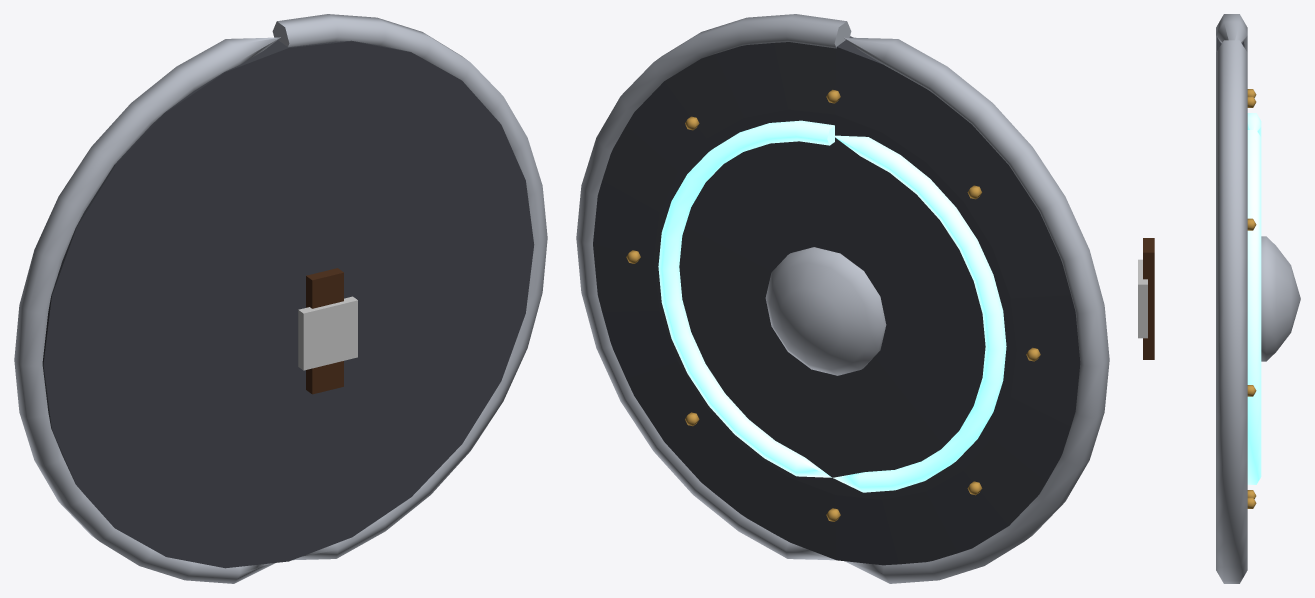
The model's file is shield_warded.glb.
The picture shows the model from 3 angles, left to right: view 1: azimuth 30°, elevation 25°; view 2: azimuth 150°, elevation 25°; view 3: azimuth 270°, elevation 25°; orthographic projection. The views are drawn at different scales.
Visible parts, largest first — view 1: Shield_Warded_Darksteel, Shield_Warded_Steel, Shield_Warded_Trim, Shield_Warded_Leather; view 2: Shield_Warded_Darksteel, Shield_Warded_Steel, Shield_Warded_Accent, Shield_Warded_Brass; view 3: Shield_Warded_Steel, Shield_Warded_Accent, Shield_Warded_Leather, Shield_Warded_Trim, Shield_Warded_Brass.
Boxes of the visible parts, <box> form: Shield_Warded_Darksteel: <box>42,40,534,568</box>; Shield_Warded_Steel: <box>14,14,547,583</box>; Shield_Warded_Trim: <box>298,296,357,370</box>; Shield_Warded_Leather: <box>306,268,343,394</box>; Shield_Warded_Darksteel: <box>593,36,1080,565</box>; Shield_Warded_Steel: <box>576,14,1109,583</box>; Shield_Warded_Accent: <box>658,120,1006,492</box>; Shield_Warded_Brass: <box>626,89,1040,521</box>; Shield_Warded_Steel: <box>1216,14,1300,583</box>; Shield_Warded_Accent: <box>1247,113,1261,484</box>; Shield_Warded_Leather: <box>1143,238,1154,359</box>; Shield_Warded_Trim: <box>1138,259,1147,338</box>; Shield_Warded_Brass: <box>1247,89,1256,508</box>.
Size of the model in its own units: 0.5777 by 0.5722 by 0.165.
